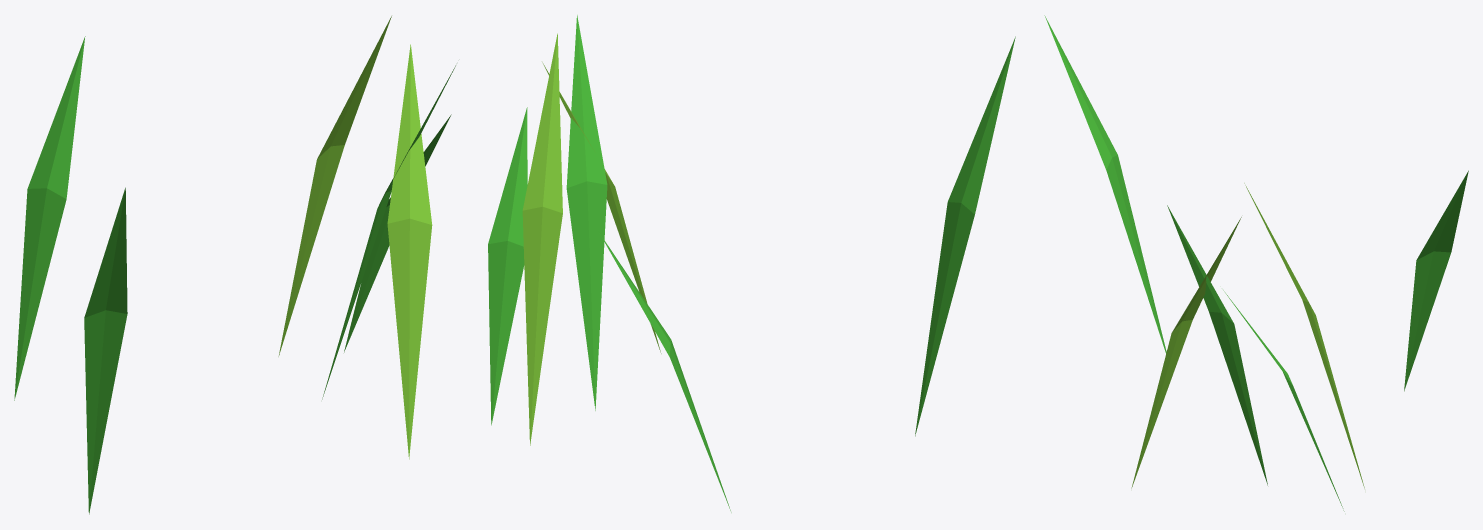
Rendered from grass_tuft_a.fbx.
3 views of the same model, side by side, from view 1: azimuth 30°, elevation 25°; view 2: azimuth 150°, elevation 25°; view 3: azimuth 270°, elevation 25° (orthographic). The views are drawn at different scales.
Visible parts, largest first — view 1: grass_tuft_a; view 2: grass_tuft_a; view 3: grass_tuft_a.
Part boxes in pixels (x1=…): grass_tuft_a: x1=14, y1=16, x2=455, y2=514; grass_tuft_a: x1=488, y1=15, x2=1015, y2=512; grass_tuft_a: x1=1044, y1=15, x2=1468, y2=511.
Size of the model in its own units: 0.4 by 0.35 by 0.4.
